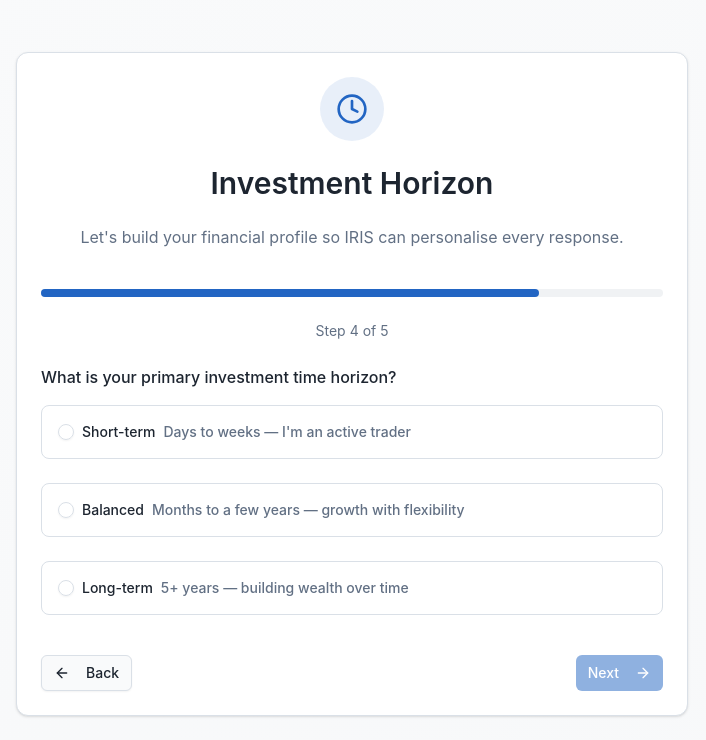
Scenario: Onboarding — progress persistence › persists step 4 (investment horizon) to the backend before advancing
Expected: the text "Step 4 of 5" is shown, [316,322,388,339]
Click the radio button named "Balanced" next to "Balanced". click: (66, 510)
box: [58,502,74,518]
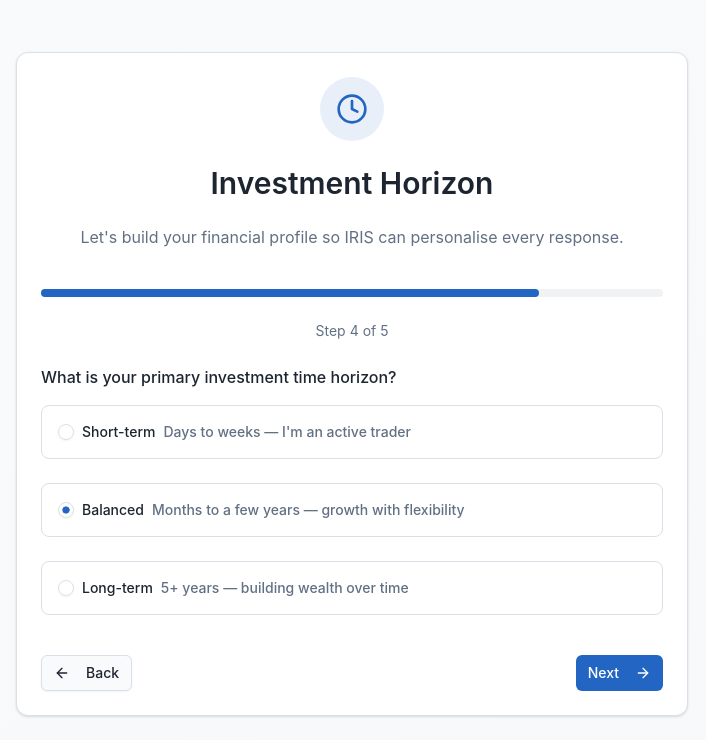
Click the button "Next". click: (619, 673)
box: [576,655,663,691]
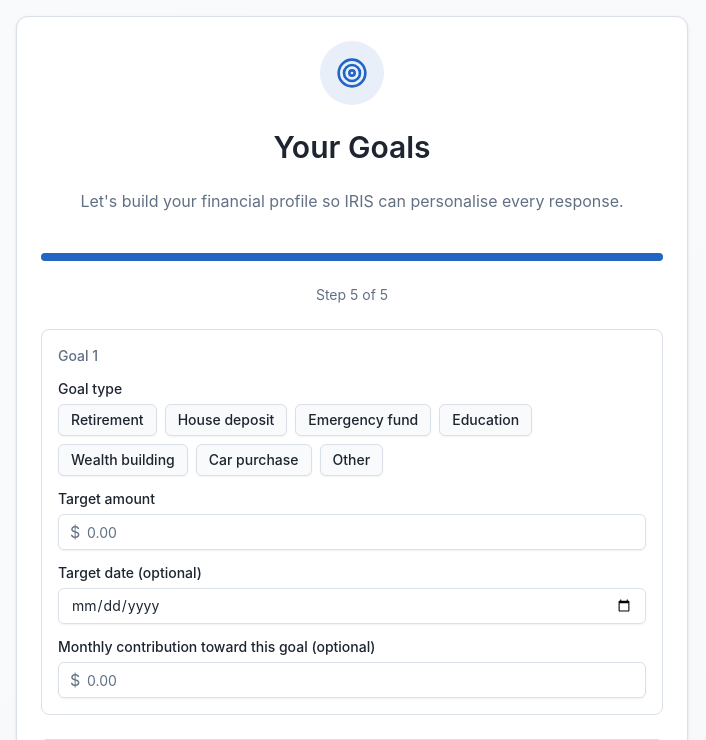
Expected: the text "Step 5 of 5" is shown, [316,286,388,303]
